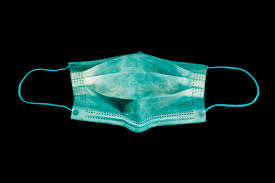mask: (67, 57, 204, 133)
